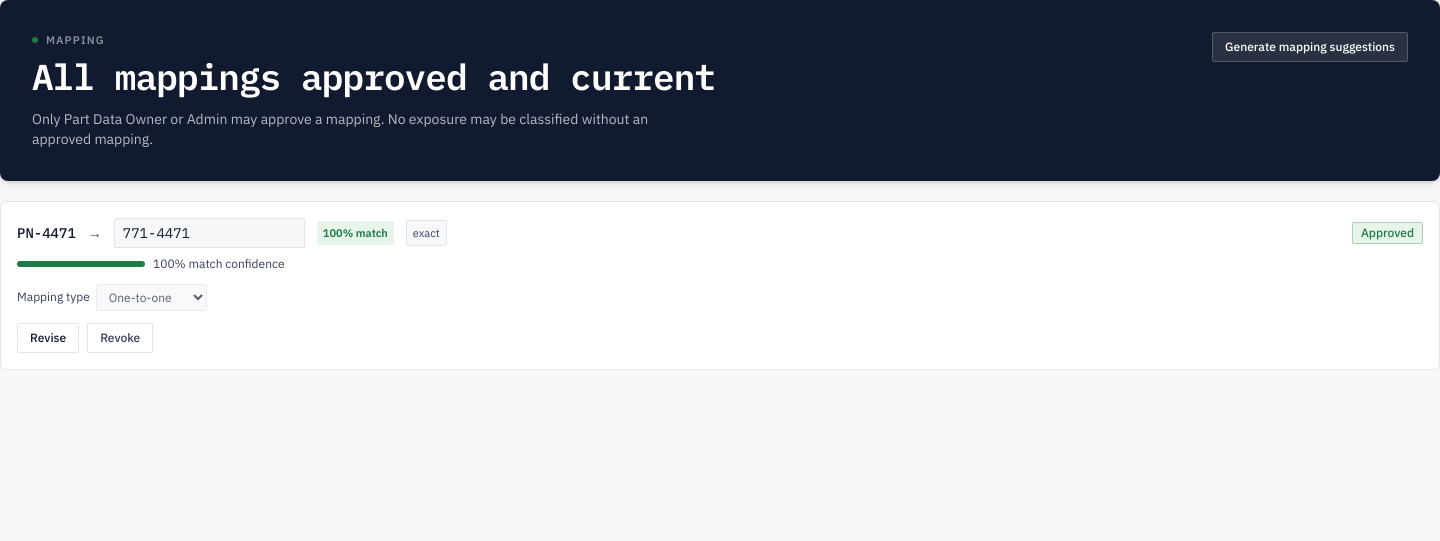
Test: MappingClient › RevisionControls › Confirm revoke requires a reason
Click the button "Revoke": [120, 338] box [87,322,153,352]
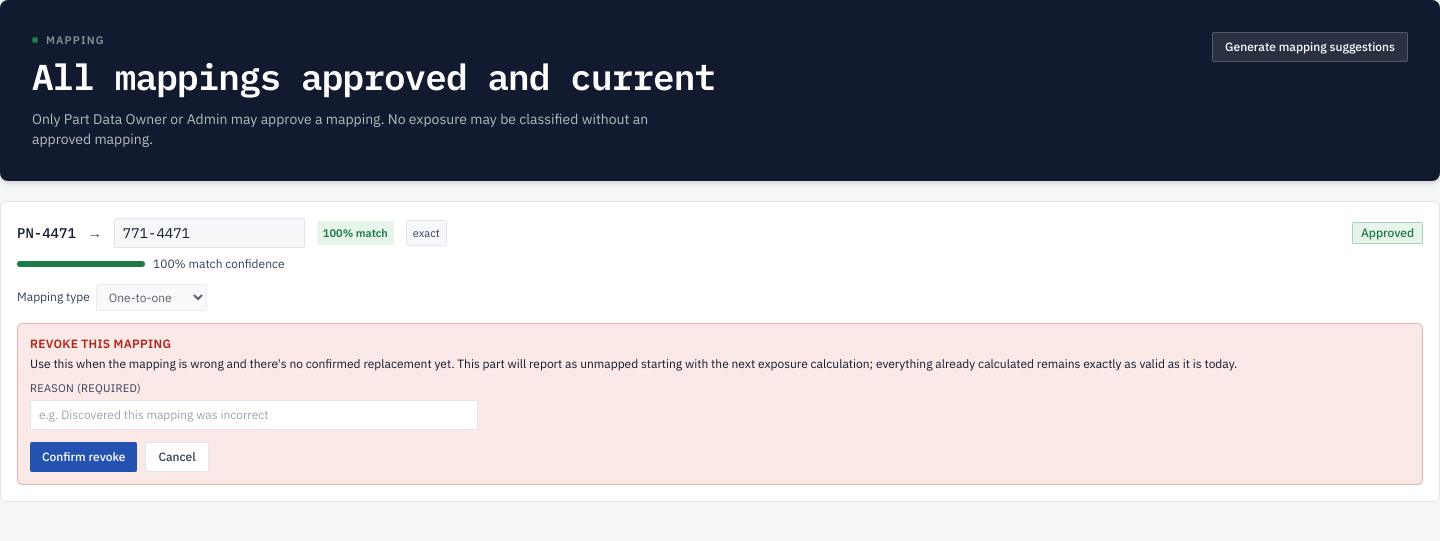
Click the button "Confirm revoke": [84, 457] box [30,442,137,472]
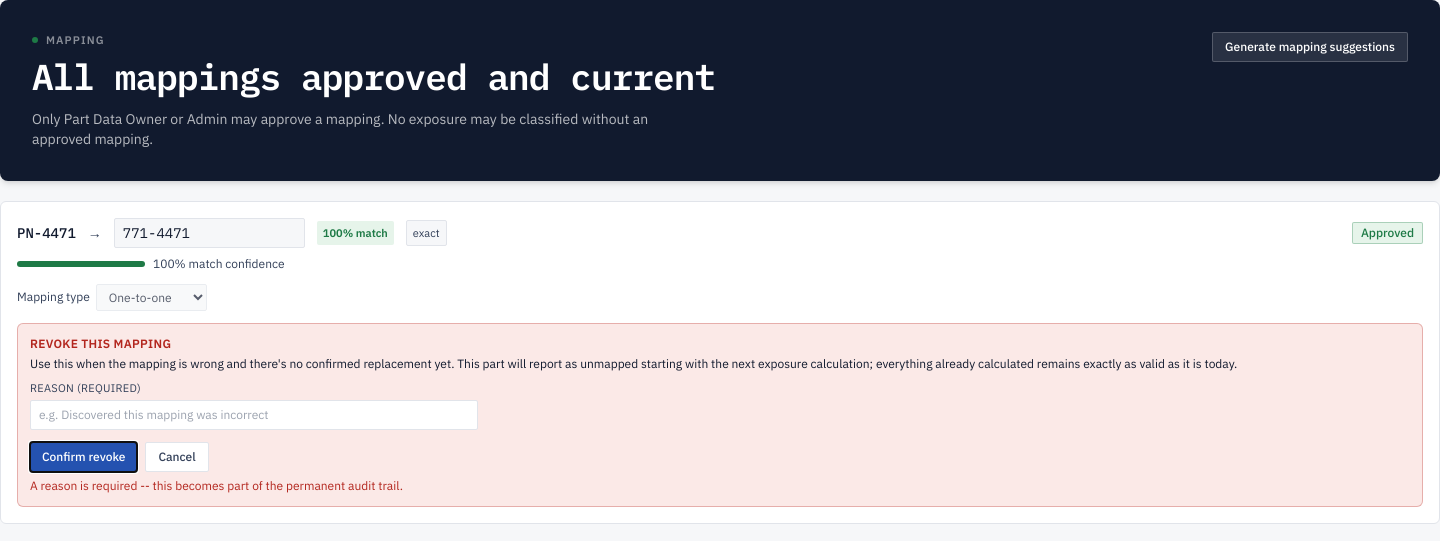
Expected: the text "A reason is required" is shown, [30,478,403,493]
